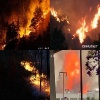fire: (21, 60, 50, 92), (65, 52, 80, 91), (74, 15, 89, 45), (51, 7, 70, 24), (35, 10, 49, 26), (92, 6, 100, 29), (19, 29, 32, 38), (2, 44, 6, 48), (67, 28, 71, 32)
